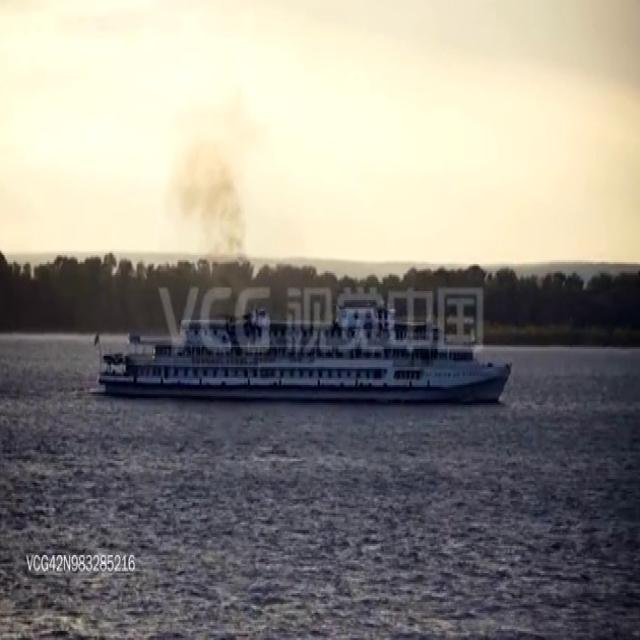passenger ship: (89, 300, 514, 408)
